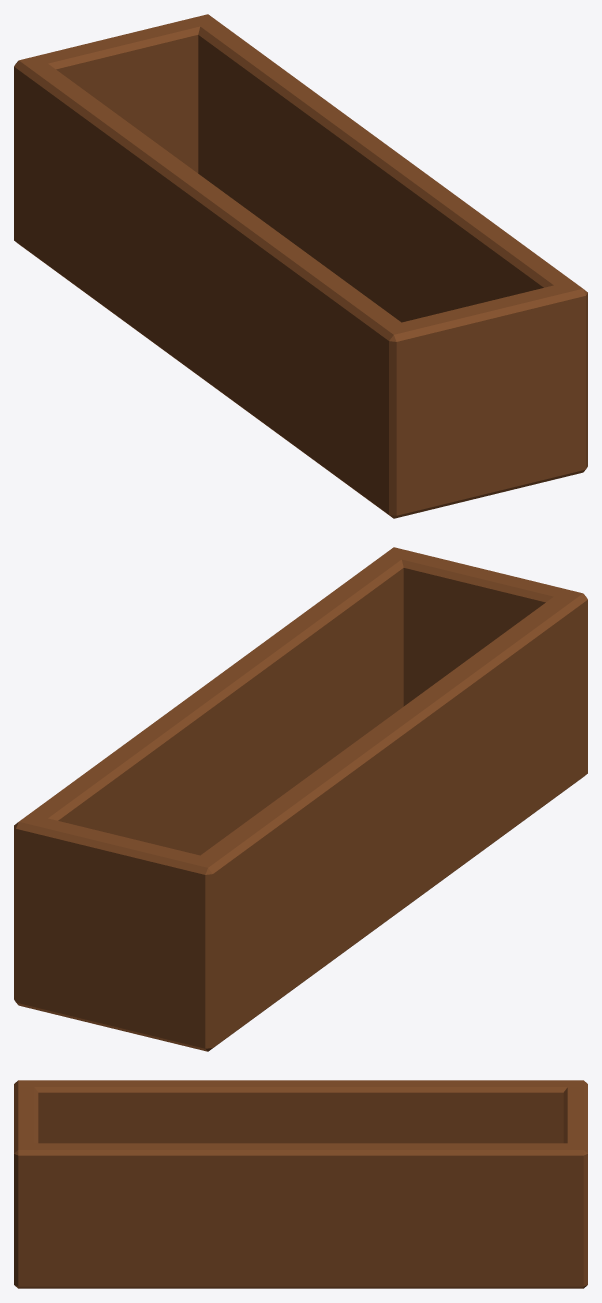
File: ww_trough_b.glb
3 views of the same model, one above another, from view 1: azimuth 30°, elevation 25°; view 2: azimuth 150°, elevation 25°; view 3: azimuth 270°, elevation 25° (orthographic). The views are drawn at different scales.
Parts seen in each view (by area): view 1: Trough_B; view 2: Trough_B; view 3: Trough_B.
Part boxes in pixels (bbox=[...]): Trough_B: bbox=[14, 14, 587, 518]; Trough_B: bbox=[14, 547, 587, 1051]; Trough_B: bbox=[14, 1080, 587, 1288].
Size of the model in its own units: 0.4527 by 0.4 by 1.5.
